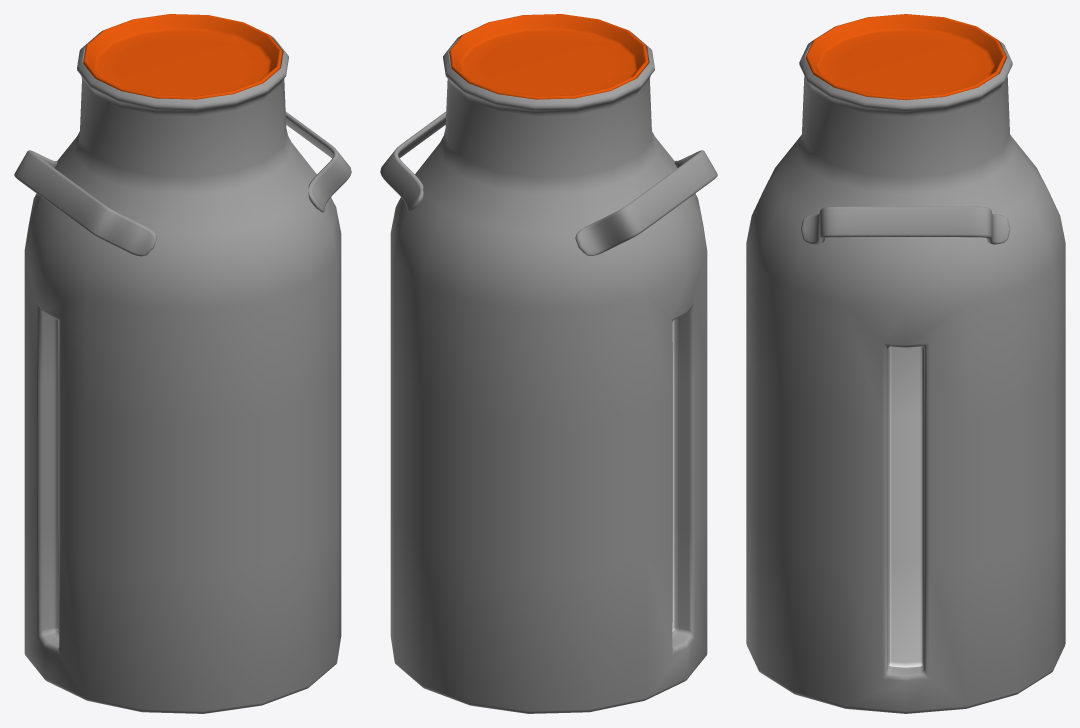
Rendered from LitroLeite.fbx.
3 views of the same model, side by side, from view 1: azimuth 30°, elevation 25°; view 2: azimuth 150°, elevation 25°; view 3: azimuth 270°, elevation 25° (orthographic).
Visible parts, largest first — view 1: LitroLeite, Tampa, Alcas; view 2: LitroLeite, Tampa, Alcas; view 3: LitroLeite, Tampa, Alcas.
Boxes of the visible parts, x1=… form: LitroLeite: x1=24, y1=30, x2=341, y2=713; Tampa: x1=83, y1=14, x2=282, y2=99; Alcas: x1=14, y1=111, x2=351, y2=256; LitroLeite: x1=390, y1=30, x2=707, y2=713; Tampa: x1=449, y1=14, x2=648, y2=99; Alcas: x1=380, y1=111, x2=717, y2=255; LitroLeite: x1=746, y1=29, x2=1065, y2=713; Tampa: x1=805, y1=14, x2=1006, y2=100; Alcas: x1=801, y1=206, x2=1010, y2=244.
Size of the model in its own units: 200 by 410 by 200.
